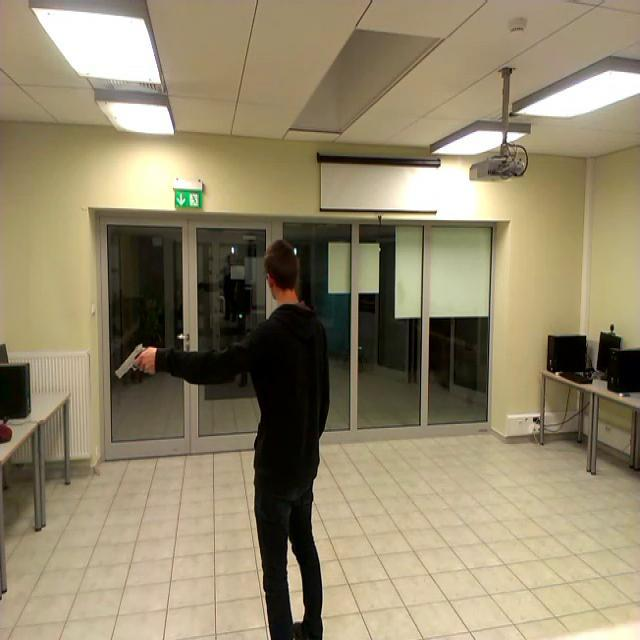Gun: (116, 342, 152, 378)
